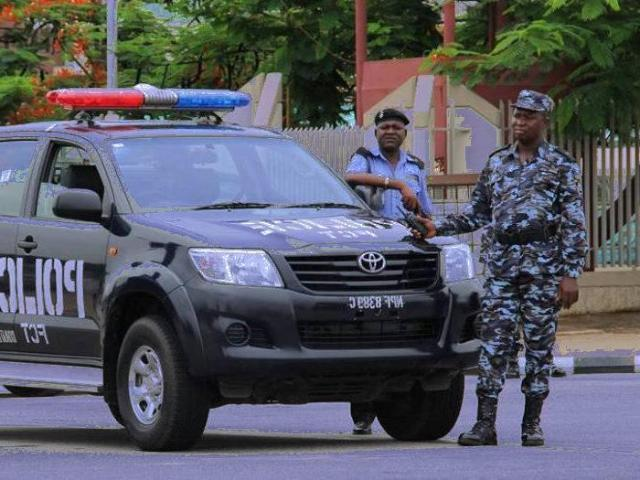police_car: (2, 85, 478, 453)
